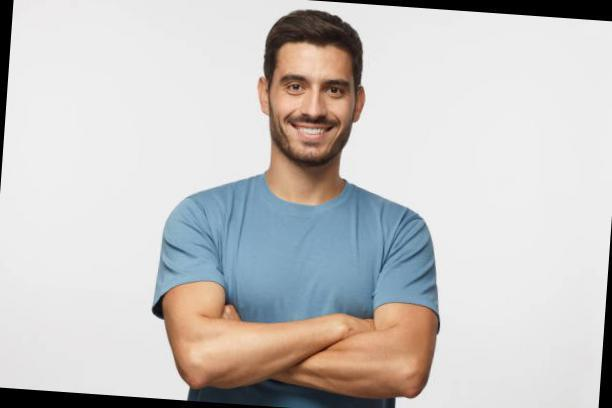Sober: (271, 39, 349, 154)
